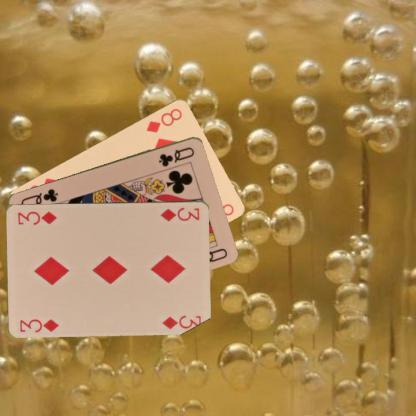3d: (17, 315, 61, 334), (158, 204, 201, 223)
8d: (143, 105, 184, 134)
Qc: (156, 144, 196, 168)
